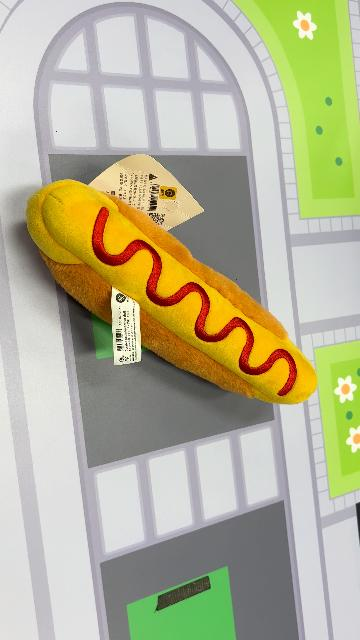hotdog: (25, 178, 319, 406)
